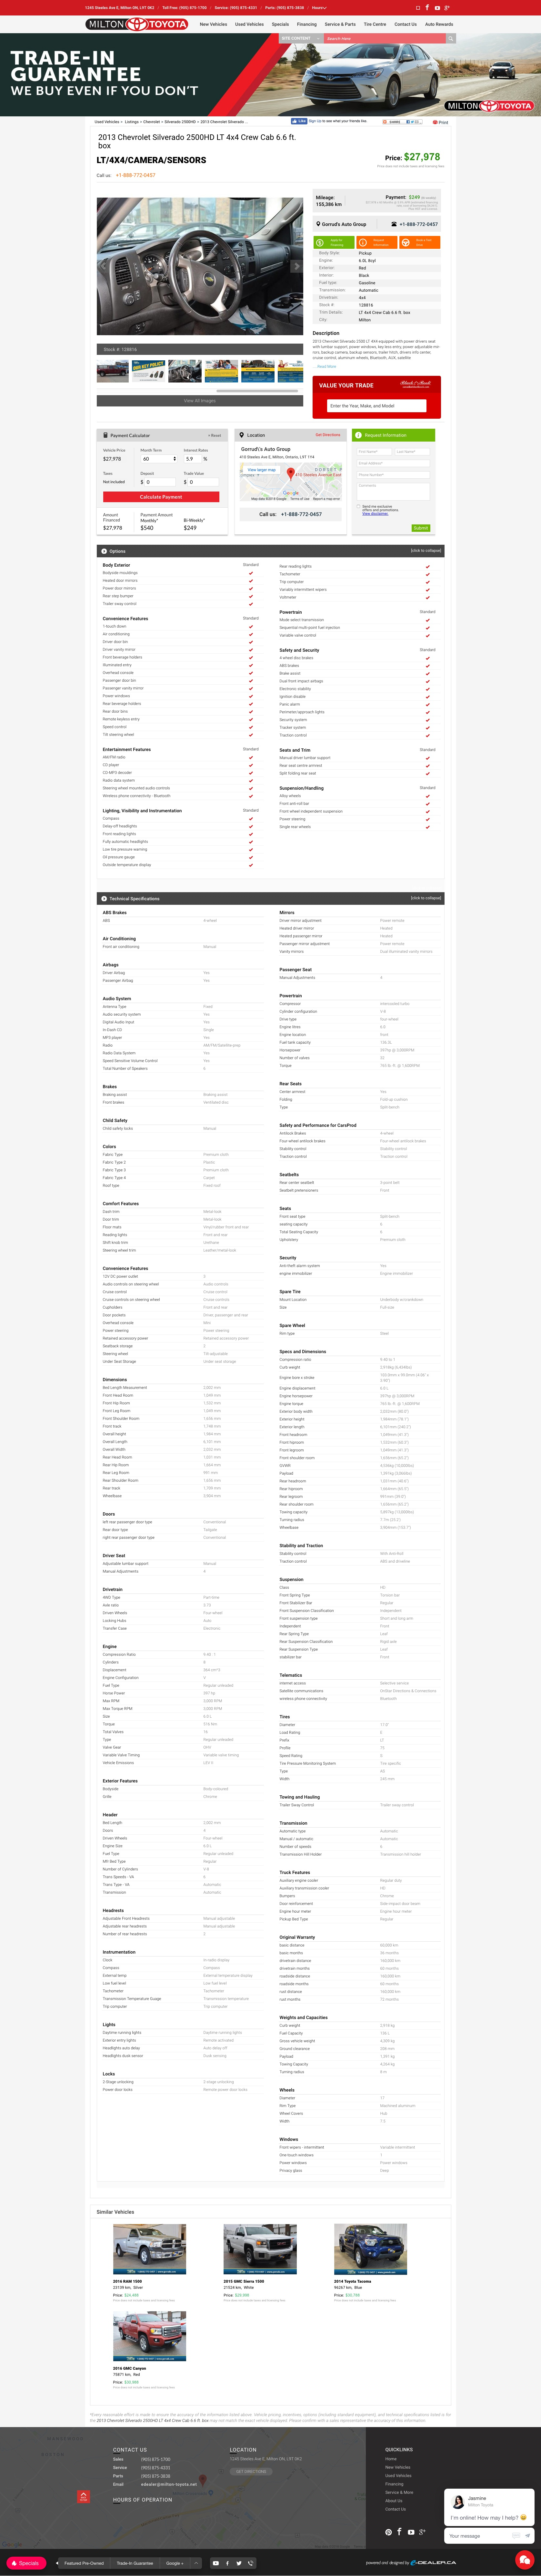car: (289, 260, 304, 274)
